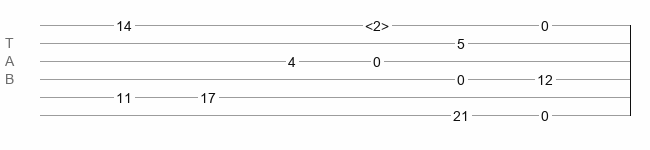0: (373, 54, 381, 64), (457, 72, 465, 82), (541, 18, 549, 28), (541, 108, 549, 118)
11: (116, 90, 132, 100)
12: (537, 72, 553, 82)
14: (116, 18, 132, 28)
17: (200, 90, 216, 100)
21: (453, 108, 469, 118)
4: (288, 54, 296, 64)
5: (457, 36, 465, 46)
harmonic: (365, 18, 389, 28)
